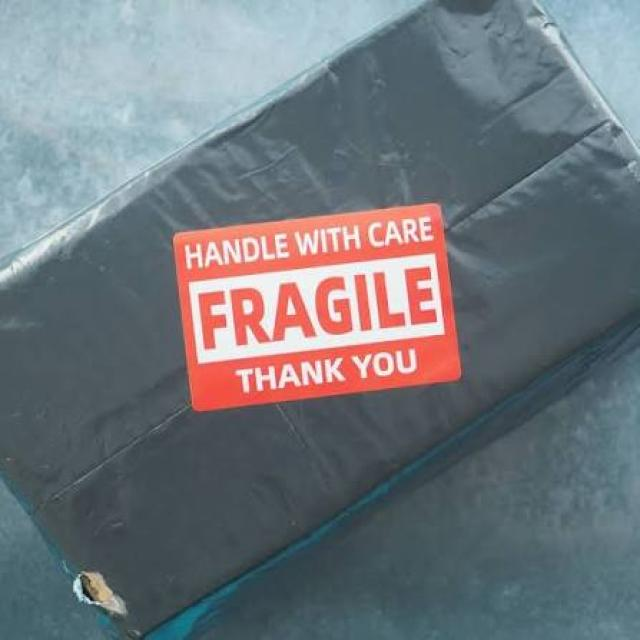fragile_label: (167, 219, 468, 395)
